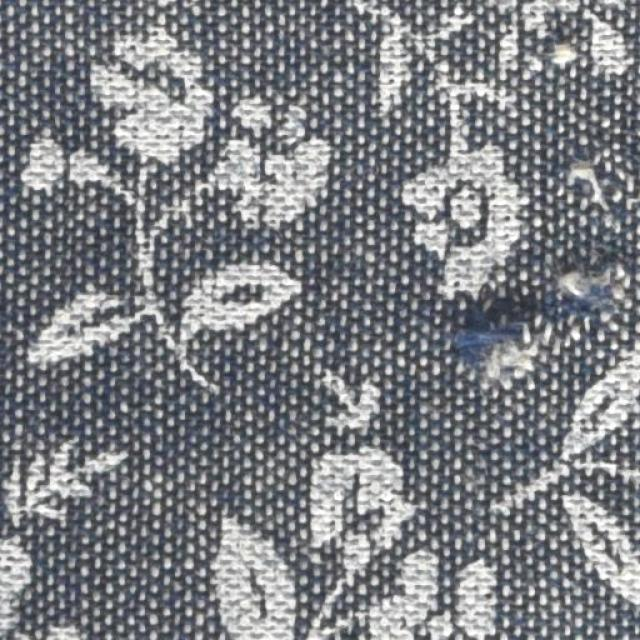Snag: (462, 261, 629, 395)
